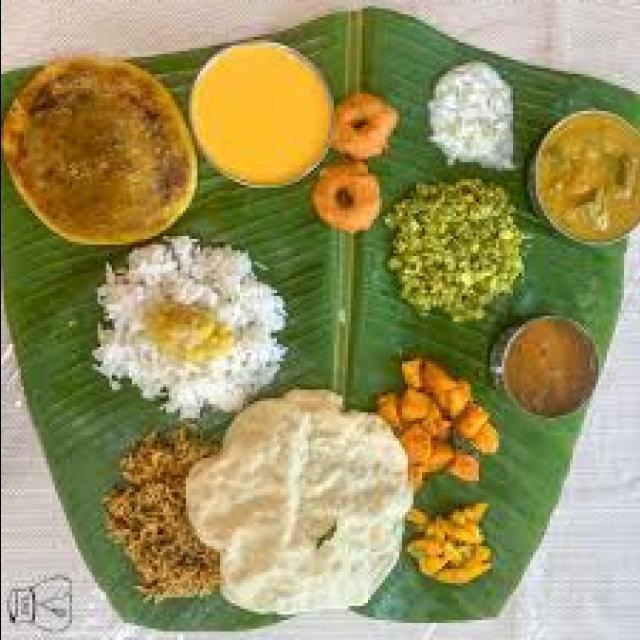dal: (187, 37, 339, 199)
papad: (203, 381, 404, 629)
sambar-rasam: (495, 308, 608, 427)
veg-fry: (397, 178, 526, 330), (533, 103, 640, 253)
